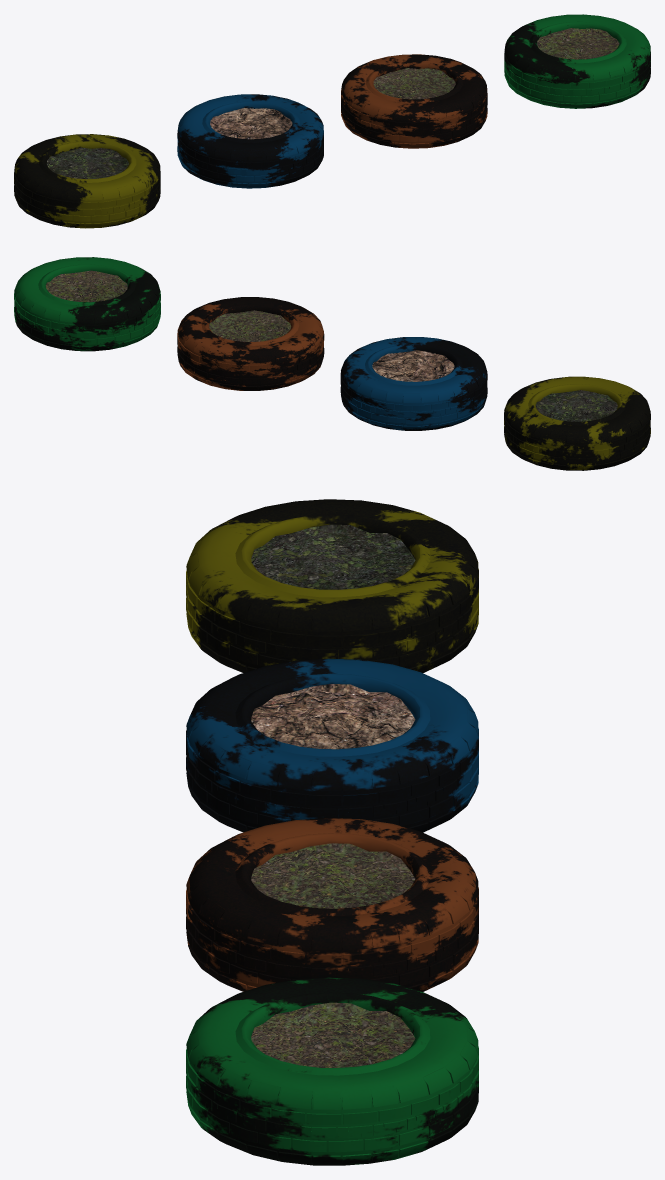
File: SM_Tire_flowerbed.fbx
3 renders of one model, top to bottom at view 1: azimuth 30°, elevation 25°; view 2: azimuth 150°, elevation 25°; view 3: azimuth 270°, elevation 25°, orthographic. The views are drawn at different scales.
Visible parts, largest first — view 1: SM_Tire_flowerbed_2, SM_Tire_flowerbed_1, SM_Tire_flowerbed_4, SM_Tire_flowerbed_3; view 2: SM_Tire_flowerbed_4, SM_Tire_flowerbed_2, SM_Tire_flowerbed_3, SM_Tire_flowerbed_1; view 3: SM_Tire_flowerbed_1, SM_Tire_flowerbed_2, SM_Tire_flowerbed_4, SM_Tire_flowerbed_3.
Part boxes in pixels (box(x1,y1,x2,y2)): SM_Tire_flowerbed_2: box(341, 54, 487, 148); SM_Tire_flowerbed_1: box(504, 14, 650, 108); SM_Tire_flowerbed_4: box(14, 134, 160, 228); SM_Tire_flowerbed_3: box(177, 94, 323, 188); SM_Tire_flowerbed_4: box(504, 376, 650, 470); SM_Tire_flowerbed_2: box(177, 297, 324, 390); SM_Tire_flowerbed_3: box(340, 337, 487, 430); SM_Tire_flowerbed_1: box(14, 257, 160, 351); SM_Tire_flowerbed_1: box(186, 977, 478, 1165); SM_Tire_flowerbed_2: box(186, 818, 478, 991); SM_Tire_flowerbed_4: box(186, 499, 478, 672); SM_Tire_flowerbed_3: box(186, 658, 478, 832).
Size of the model in its own units: 15.11 by 0.971 by 3.11.
